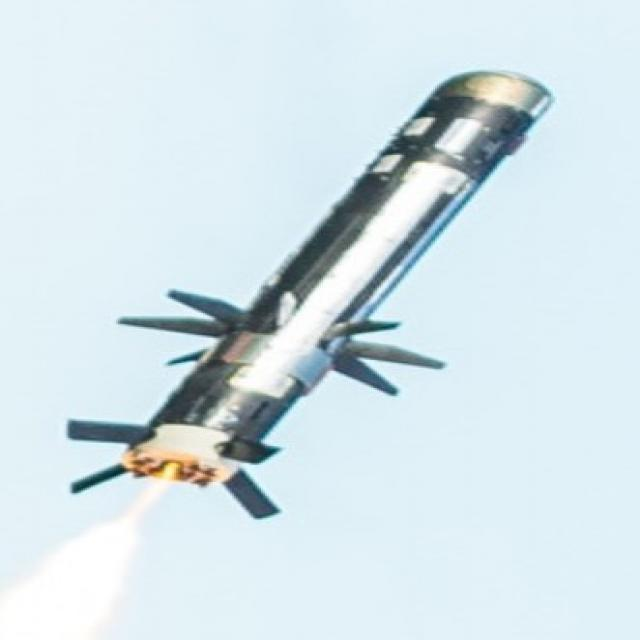missile: (72, 63, 554, 548)
